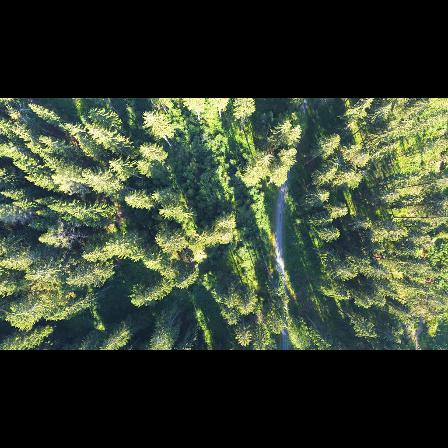Sick: (327, 154, 347, 171)
